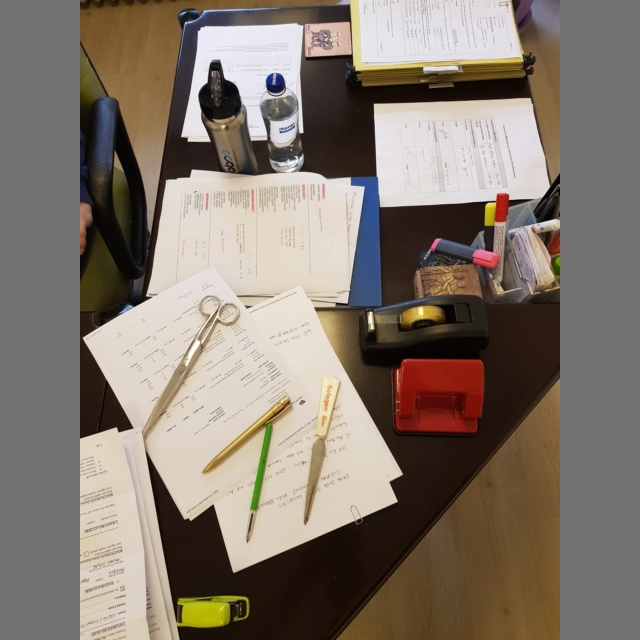scissor: (138, 293, 241, 440)
